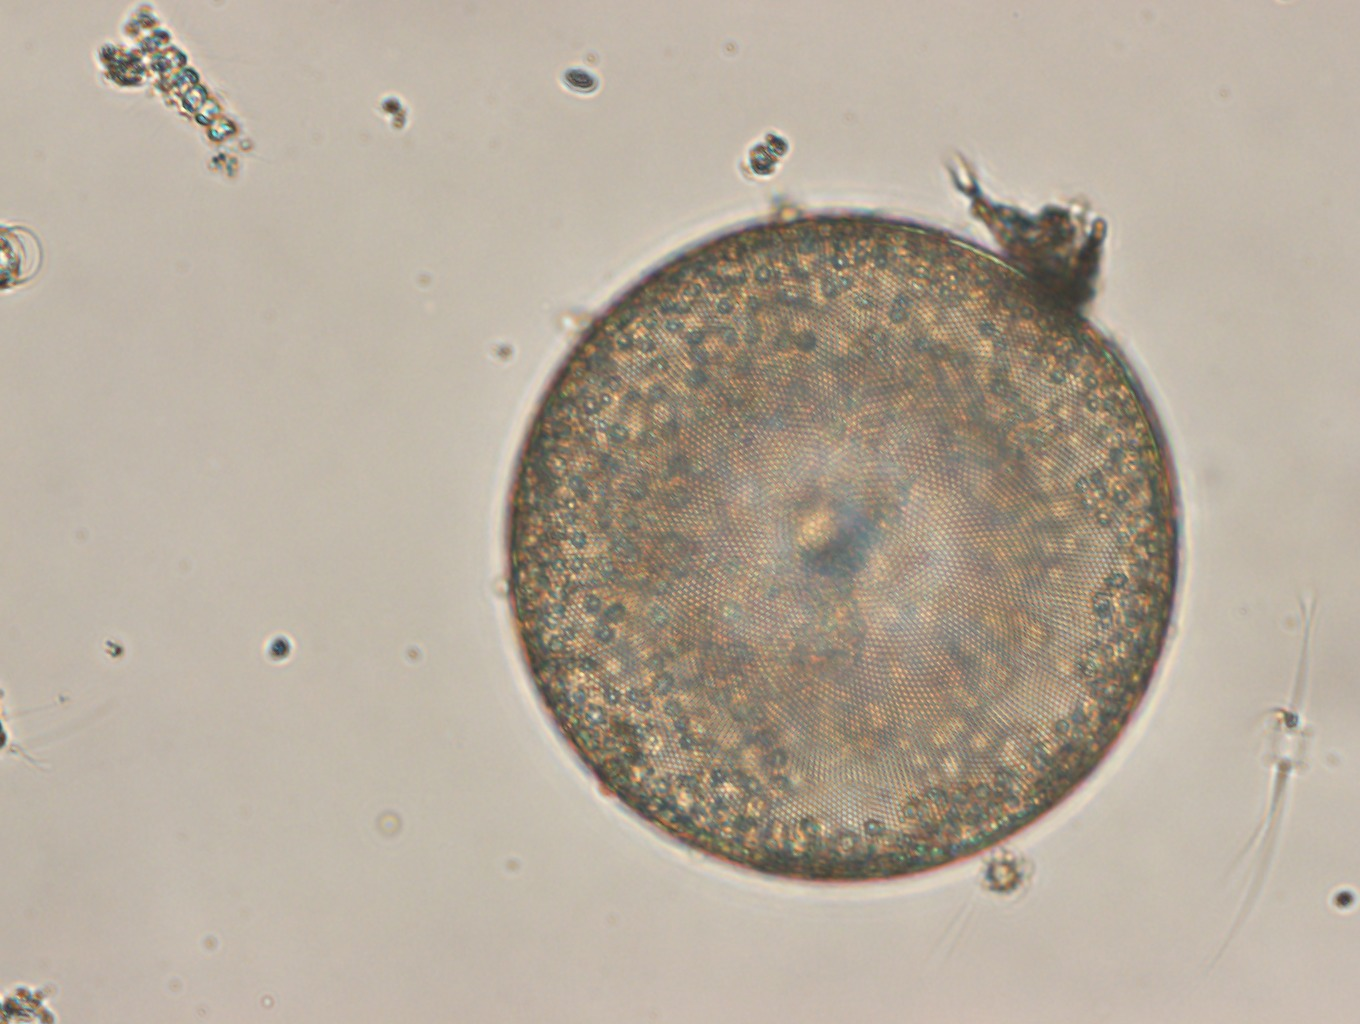chaetoceros: (1211, 591, 1321, 975)
coscinodiscus: (502, 203, 1186, 886)
skeletonema: (121, 3, 238, 150)
